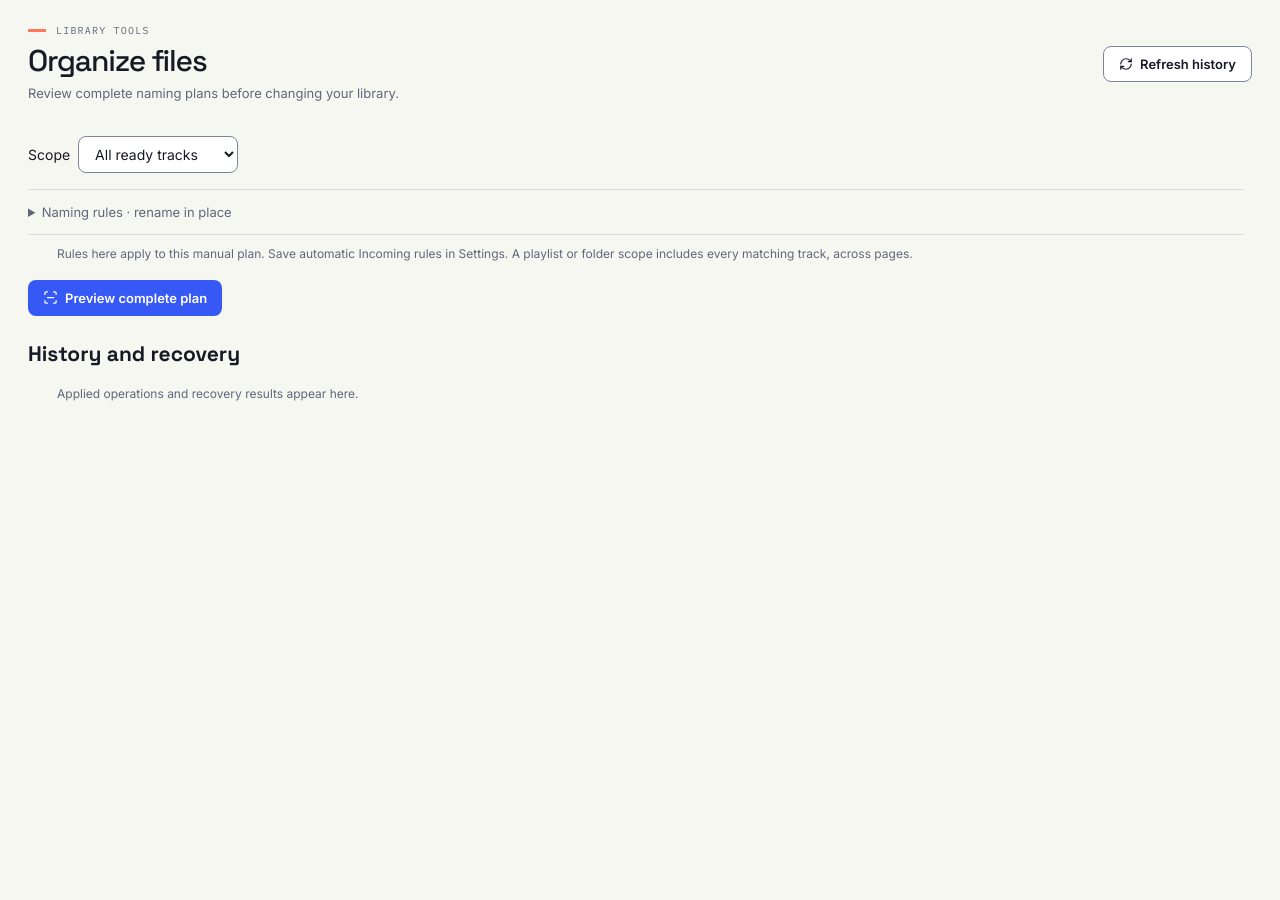
Test: retains the publication error when refreshing its durable history also fails
Click the button "Preview complete plan". click: (125, 298)
box: [28,280,222,316]
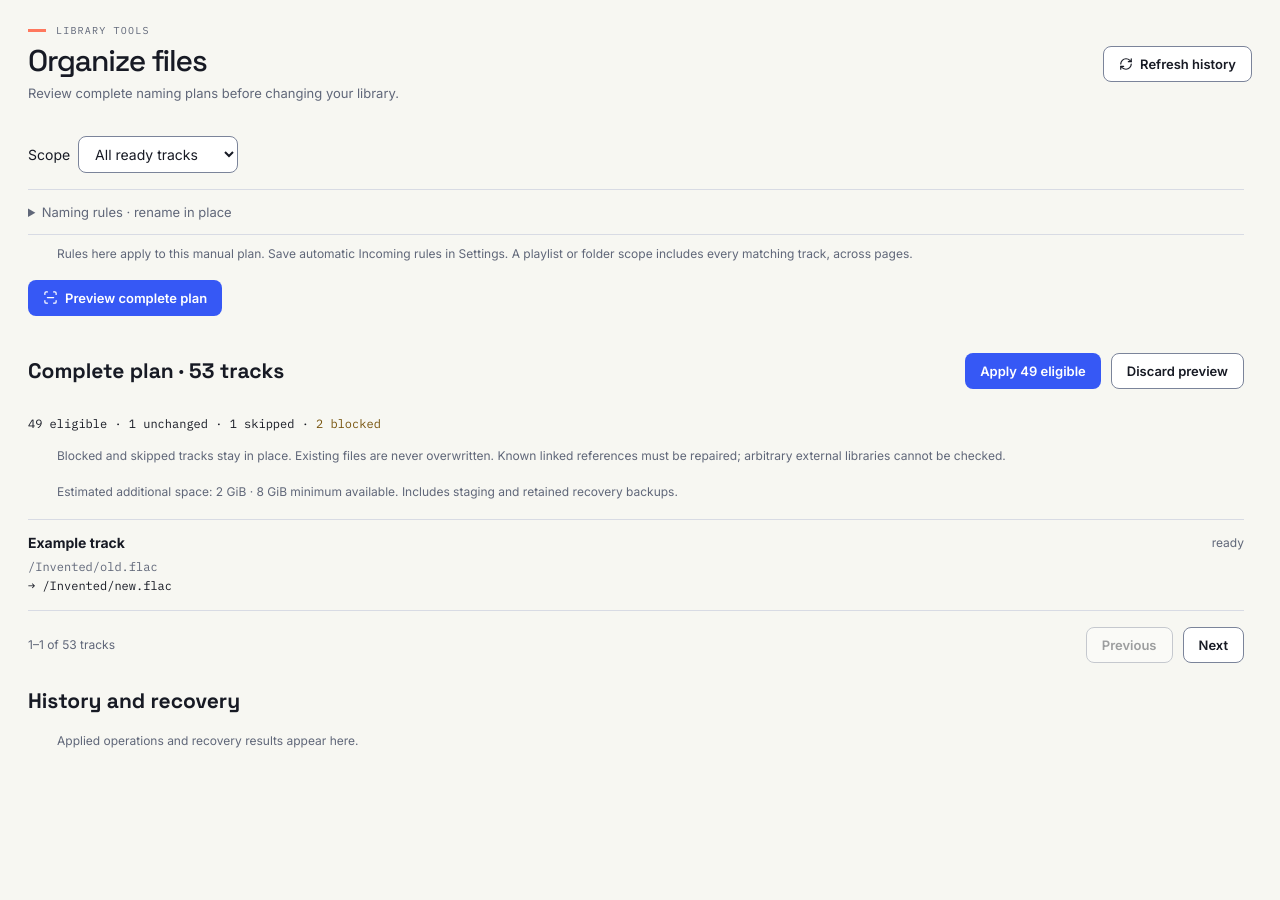
Check: the heading "Complete plan · 53 tracks" is shown, box [28,357,284,384]
Check: the button "Apply 49 eligible" is enabled
Click the button "Apply 49 eligible". click: (1033, 371)
box: [965,353,1101,389]
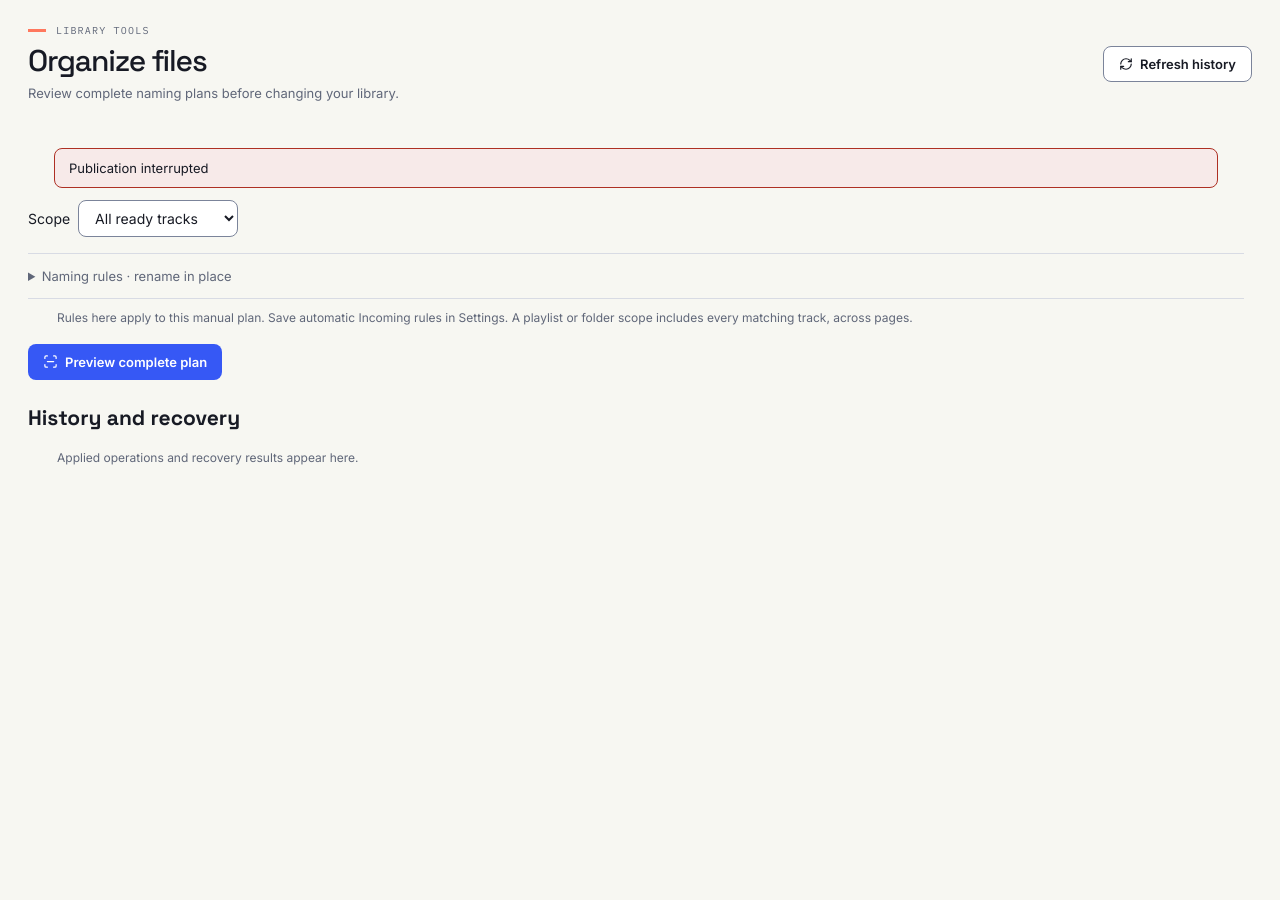
Check: the message reads "Publication interrupted", box [69,160,208,176]
Check: the button "Apply 49 eligible" is gone
